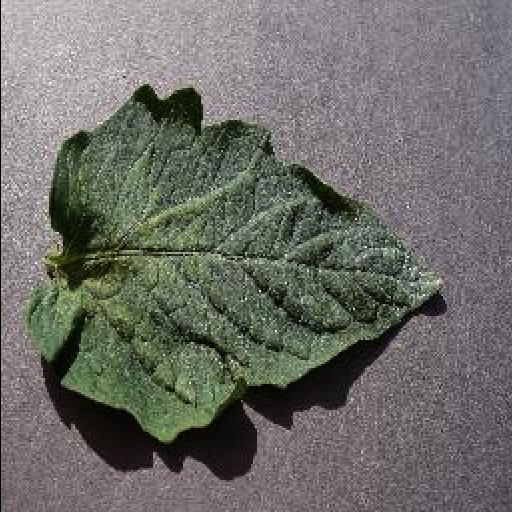disease_tomato: (24, 83, 446, 441)
